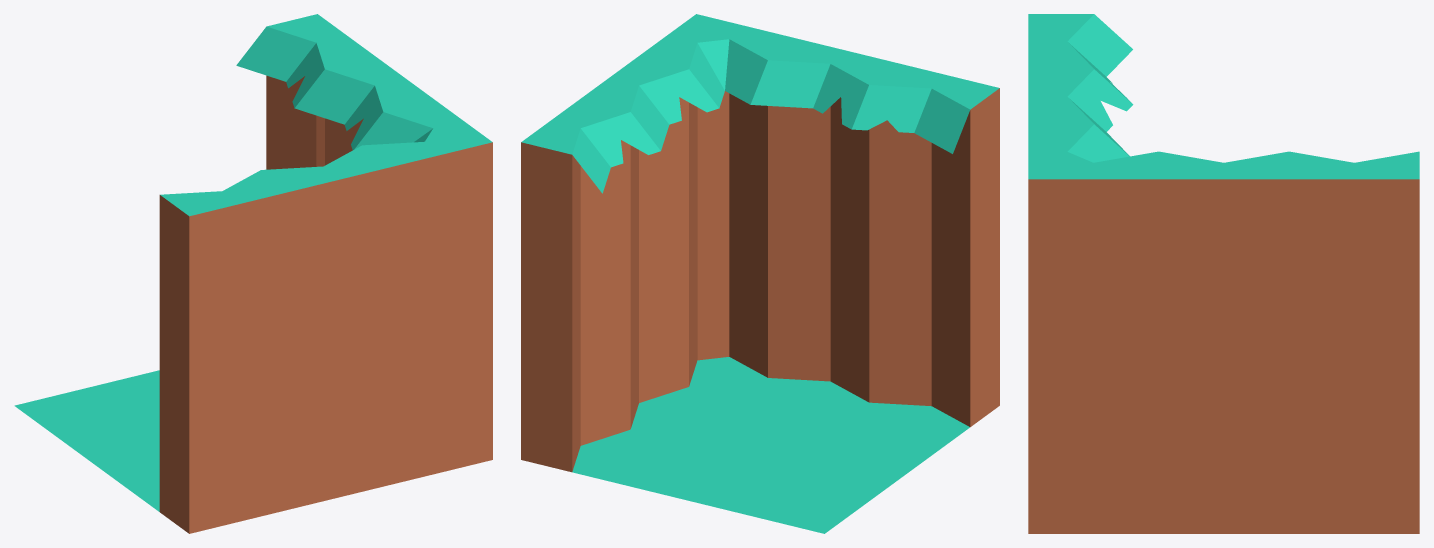
File: borderSouthEast.glb
3 views of the same model, side by side, from view 1: azimuth 30°, elevation 25°; view 2: azimuth 150°, elevation 25°; view 3: azimuth 270°, elevation 25° (orthographic). The views are drawn at different scales.
Parts seen in each view (by area): view 1: mergedBlocks(Clone); view 2: mergedBlocks(Clone); view 3: mergedBlocks(Clone).
Part boxes in pixels (bbox=[...]): mergedBlocks(Clone): bbox=[14, 14, 492, 533]; mergedBlocks(Clone): bbox=[521, 14, 999, 533]; mergedBlocks(Clone): bbox=[1028, 14, 1419, 533].
Size of the model in its own units: 1 by 1 by 1.
